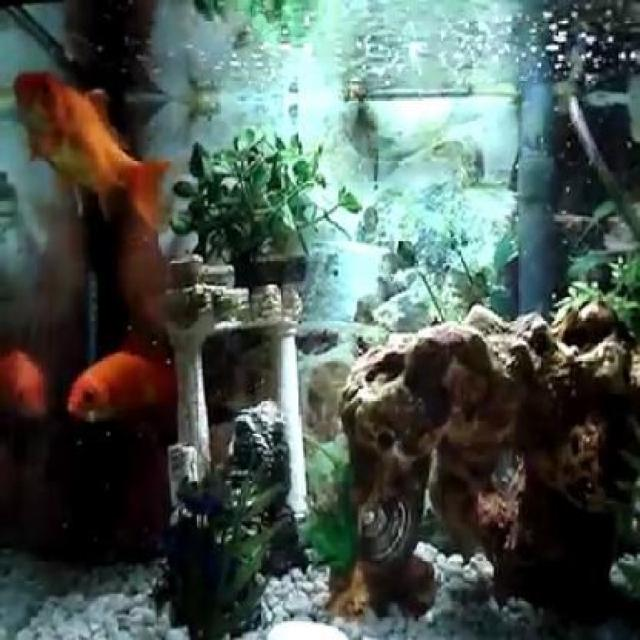GoldFish: (11, 62, 166, 233), (66, 334, 180, 424)
